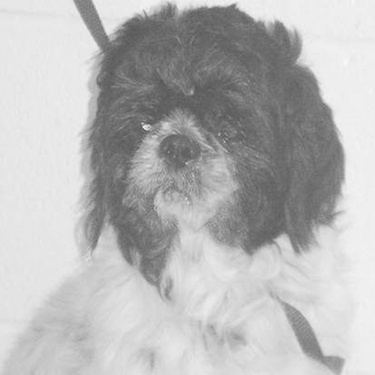dog: (2, 2, 360, 373)
